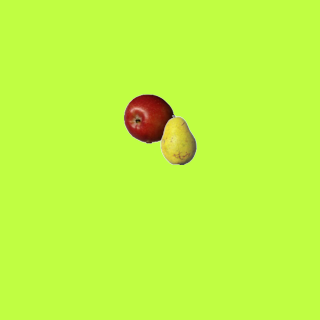Apple Braeburn: (123, 93, 173, 143)
Pear Monster: (153, 114, 203, 164)
